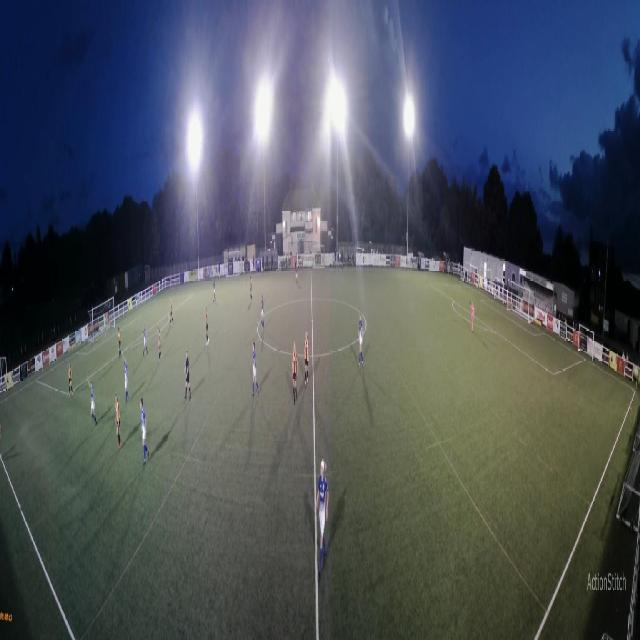player: (316, 458, 329, 583), (140, 399, 149, 469), (87, 376, 97, 426), (251, 342, 259, 396), (114, 393, 121, 450), (292, 341, 298, 406), (122, 355, 129, 403), (184, 351, 191, 399), (305, 329, 310, 386), (358, 311, 363, 367), (68, 362, 74, 400), (470, 302, 476, 333), (143, 324, 148, 356), (206, 306, 210, 345), (261, 296, 265, 332), (158, 327, 162, 362), (117, 327, 121, 358), (170, 298, 174, 326), (250, 276, 253, 304), (104, 315, 107, 337), (213, 280, 216, 302), (295, 264, 297, 286)
